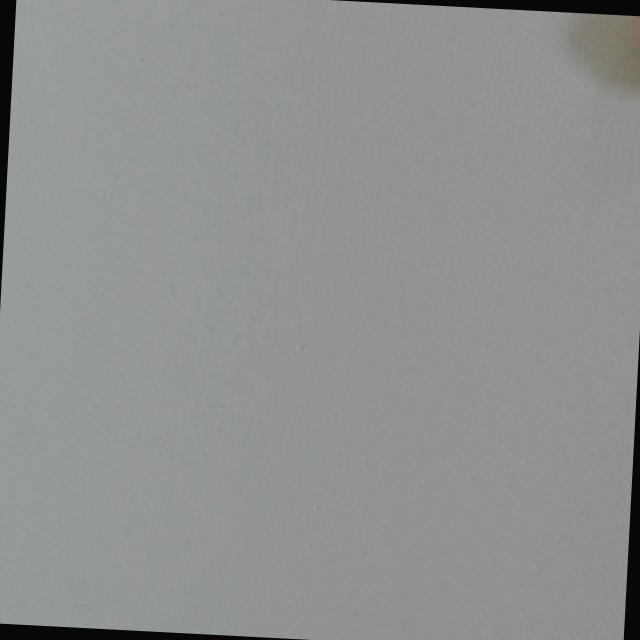pelicula: (633, 16, 640, 95)
